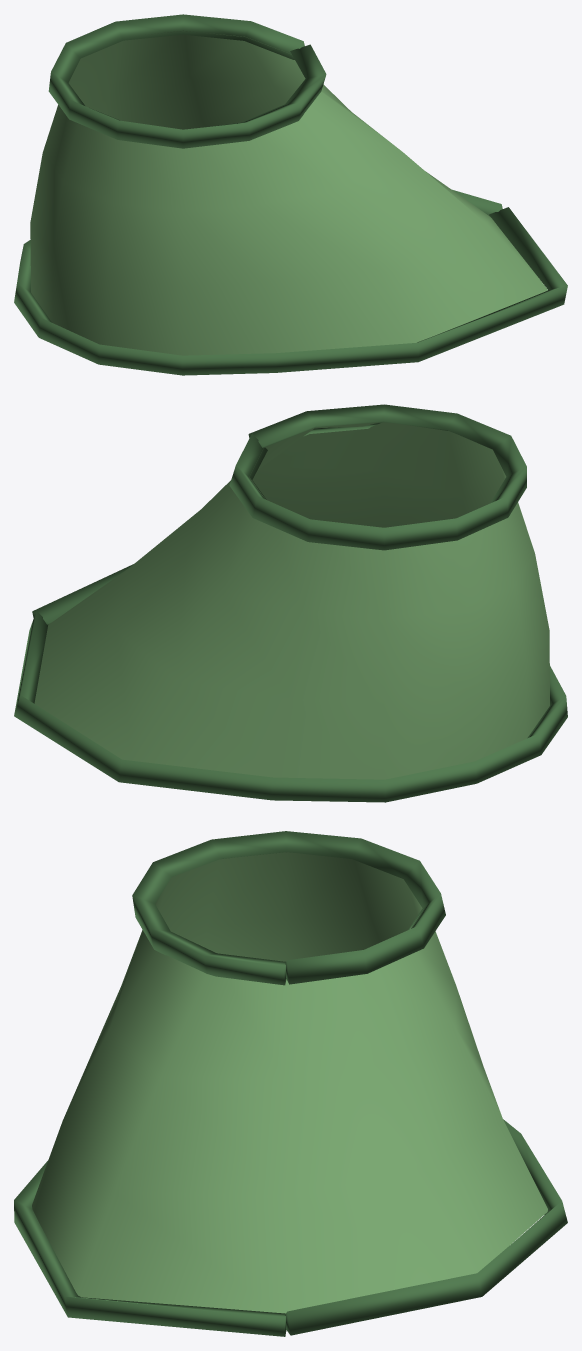
File: tungsten_armor_pauldron.L.glb
3 renders of one model, top to bottom at view 1: azimuth 30°, elevation 25°; view 2: azimuth 150°, elevation 25°; view 3: azimuth 270°, elevation 25°, orthographic. The views are drawn at different scales.
Parts seen in each view (by area): view 1: tungsten_armor_pauldron.L; view 2: tungsten_armor_pauldron.L; view 3: tungsten_armor_pauldron.L.
Boxes of the visible parts, x1,y1,x2,y2 form: tungsten_armor_pauldron.L: [14, 14, 567, 375]; tungsten_armor_pauldron.L: [14, 404, 567, 802]; tungsten_armor_pauldron.L: [14, 831, 567, 1336].
Size of the model in its own units: 0.3461 by 0.1645 by 0.3104.
